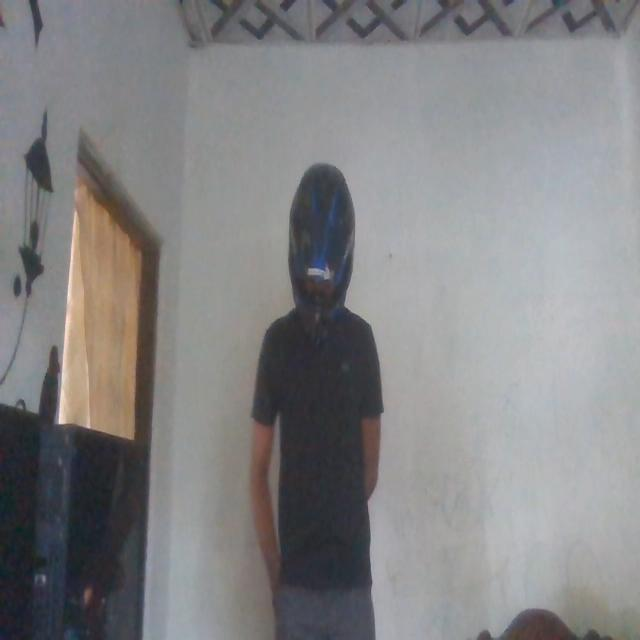Helmet_Wearer: (273, 153, 359, 347)
Person: (250, 178, 386, 640)
